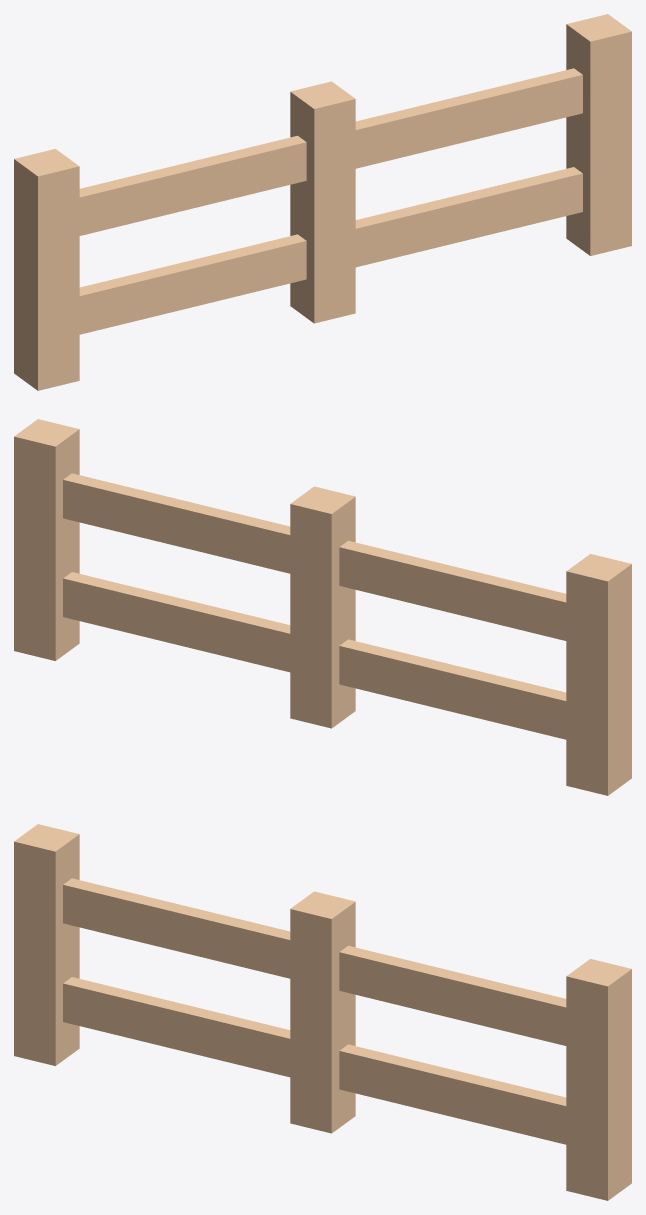
Rendered from fence_strong.glb.
3 renders of one model, top to bottom at view 1: azimuth 30°, elevation 25°; view 2: azimuth 150°, elevation 25°; view 3: azimuth 330°, elevation 25°, orthographic.
Parts seen in each view (by area): view 1: fence_strong; view 2: fence_strong; view 3: fence_strong.
Part boxes in pixels (x1=…): fence_strong: x1=14, y1=14, x2=631, y2=390; fence_strong: x1=14, y1=419, x2=631, y2=795; fence_strong: x1=14, y1=824, x2=631, y2=1200.
Bounding box in the file's own units: 1 × 0.345 × 0.07.
